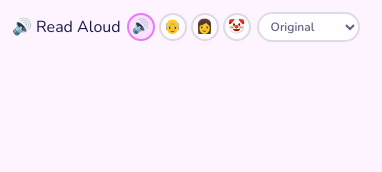
Test: ReadAloud › shows an error and keeps working when translation fails
Select "French" in the dropdown named "Translate to" at (308, 27), box [257,12,360,42]
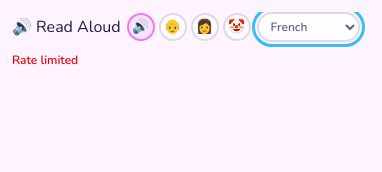
Expected: the text "Rate limited" is shown, [12,52,78,68]
